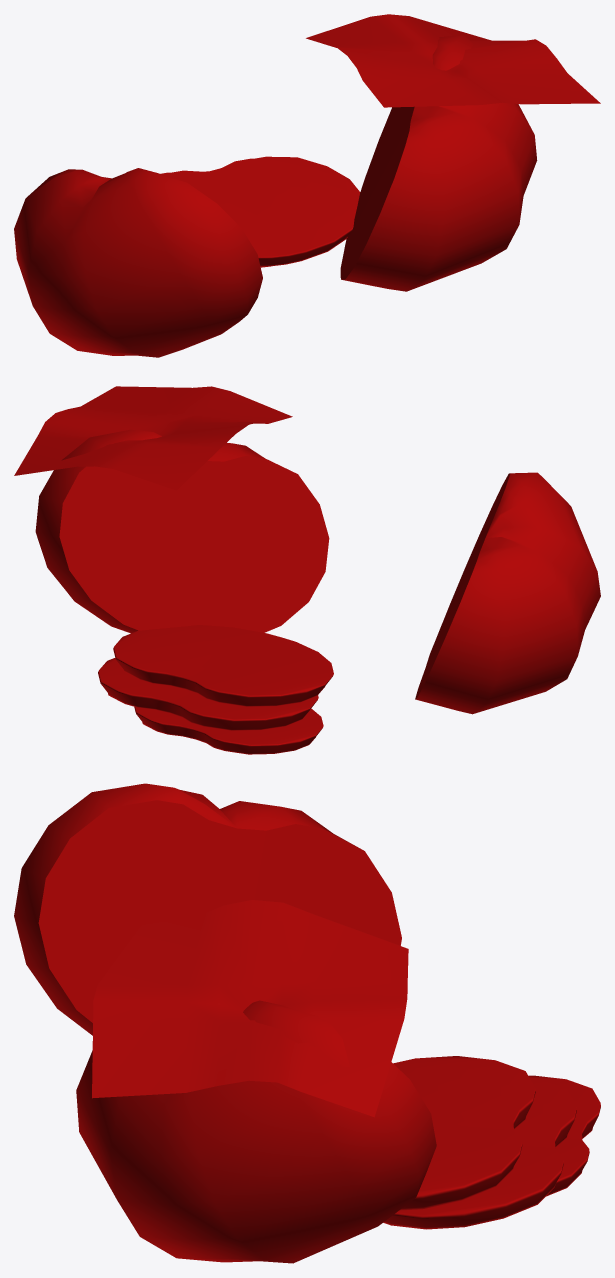
File: Tomato.fbx
3 views of the same model, one above another, from view 1: azimuth 30°, elevation 25°; view 2: azimuth 150°, elevation 25°; view 3: azimuth 270°, elevation 25° (orthographic). The views are drawn at different scales.
Parts seen in each view (by area): view 1: polySurface238; view 2: polySurface238; view 3: polySurface238.
Boxes of the visible parts, bbox=[...] form: polySurface238: bbox=[14, 14, 600, 357]; polySurface238: bbox=[14, 386, 600, 754]; polySurface238: bbox=[14, 783, 600, 1263].
Size of the model in its own units: 78.6 by 33.06 by 56.36.
